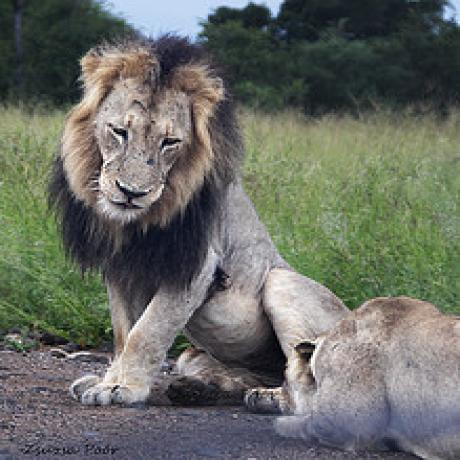Lion: (41, 30, 328, 416), (289, 283, 460, 460)
